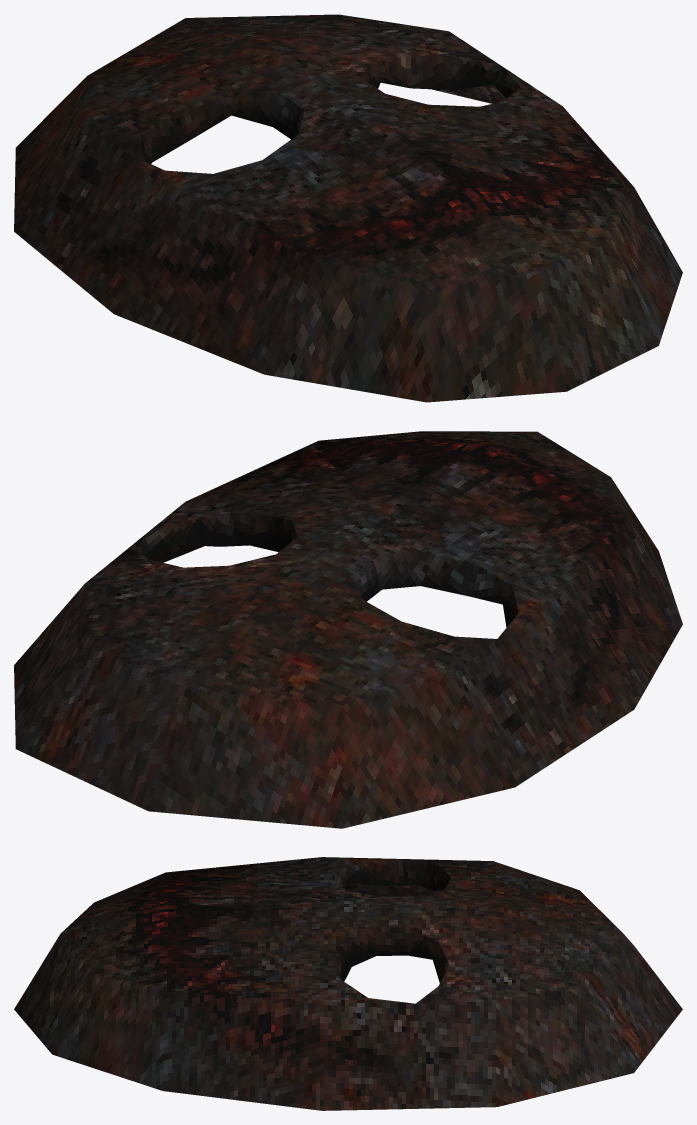
File: mask_mx_5.glb
3 renders of one model, top to bottom at view 1: azimuth 30°, elevation 25°; view 2: azimuth 150°, elevation 25°; view 3: azimuth 270°, elevation 25°, orthographic. The views are drawn at different scales.
Visible parts, largest first — view 1: mask_mx_5; view 2: mask_mx_5; view 3: mask_mx_5.
Part boxes in pixels (<box>): mask_mx_5: <box>14,14,682,402</box>; mask_mx_5: <box>14,431,682,828</box>; mask_mx_5: <box>14,857,682,1110</box>.
Bounding box in the file's own units: 0.2297 × 0.0554 × 0.3198.
Materials: 1 (1 with a texture image).
